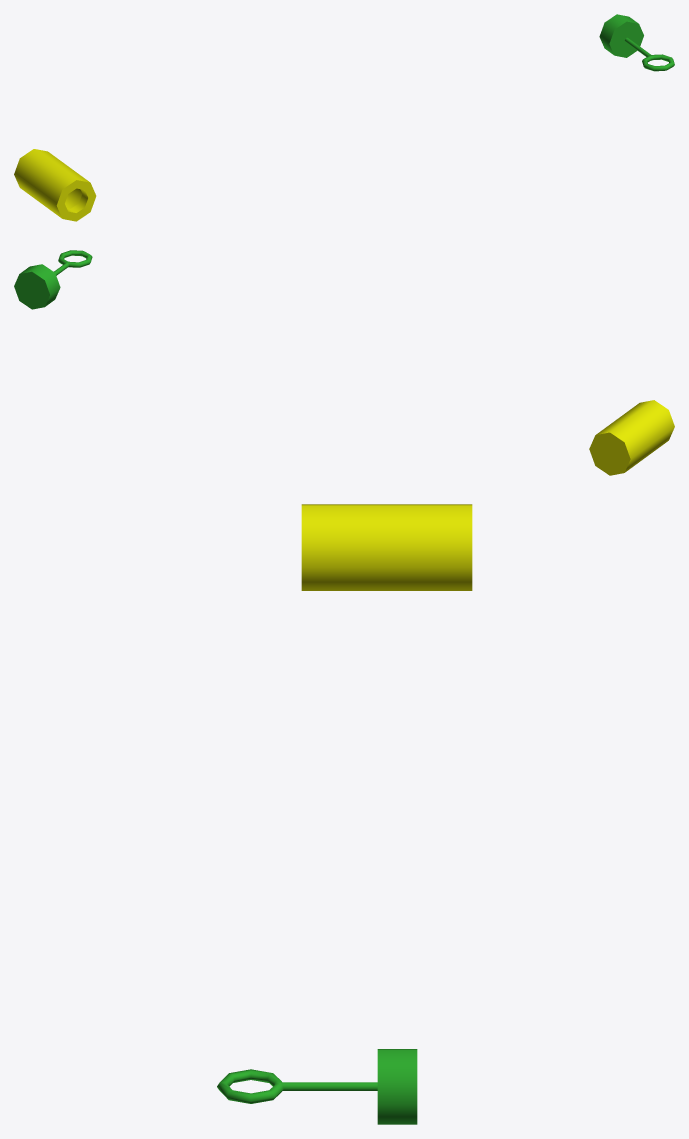
The model's file is SoapBottle.fbx.
3 renders of one model, top to bottom at view 1: azimuth 30°, elevation 25°; view 2: azimuth 150°, elevation 25°; view 3: azimuth 270°, elevation 25°, orthographic. The views are drawn at different scales.
Visible parts, largest first — view 1: SoapBottle, BottleCap; view 2: SoapBottle, BottleCap; view 3: SoapBottle, BottleCap.
Part boxes in pixels (left/top/right/bottom): SoapBottle: left=14, top=149, right=96, bottom=221; BottleCap: left=599, top=14, right=674, bottom=71; SoapBottle: left=589, top=400, right=674, bottom=475; BottleCap: left=14, top=250, right=92, bottom=309; SoapBottle: left=301, top=504, right=472, bottom=590; BottleCap: left=217, top=1049, right=417, bottom=1124.
Size of the model in its own units: 176 by 13.09 by 32.02.
